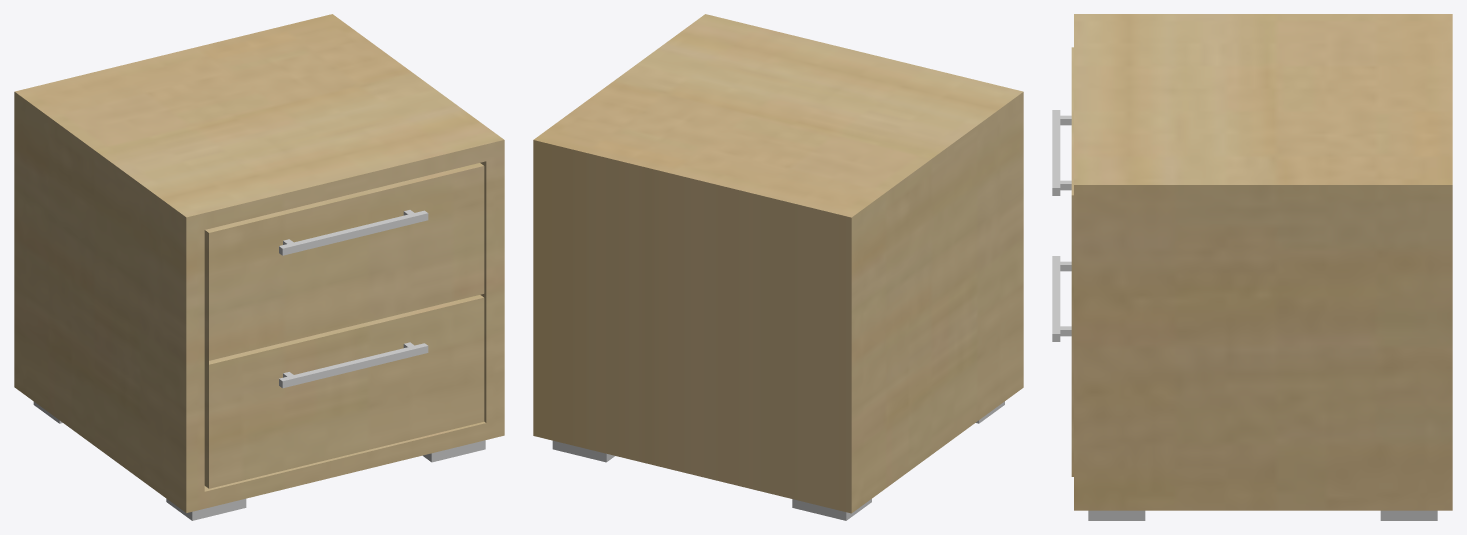
Rendered from sh_blend_swap_cc_0_bedsidetable2.glb.
The picture shows the model from 3 angles, left to right: view 1: azimuth 30°, elevation 25°; view 2: azimuth 150°, elevation 25°; view 3: azimuth 270°, elevation 25°; orthographic projection. The views are drawn at different scales.
Size of the model in its own units: 0.4855 by 0.454 by 0.481.
Materials: 3 (1 with a texture image).
